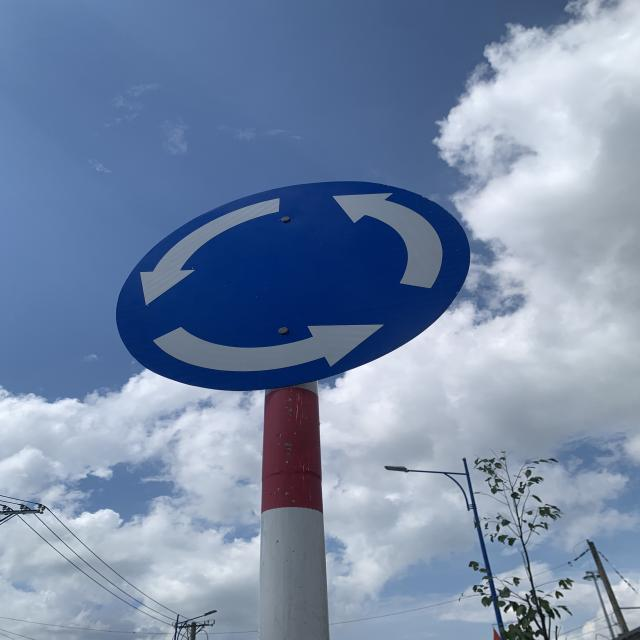Xe_Bus: (114, 178, 472, 389)
